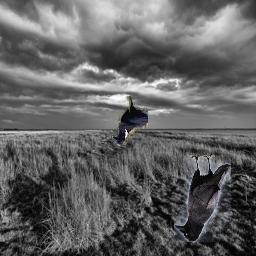Crow: (175, 156, 232, 243), (112, 97, 148, 148)
